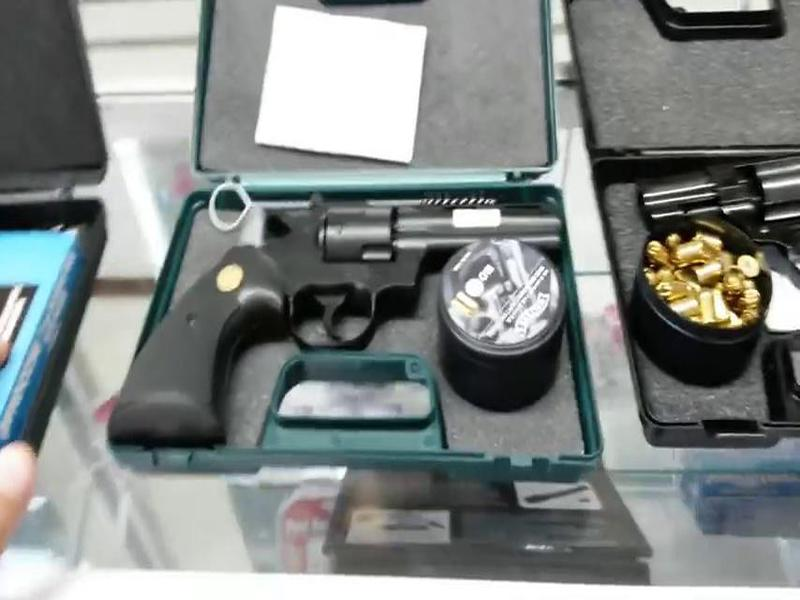Revolver: (100, 141, 578, 462)
